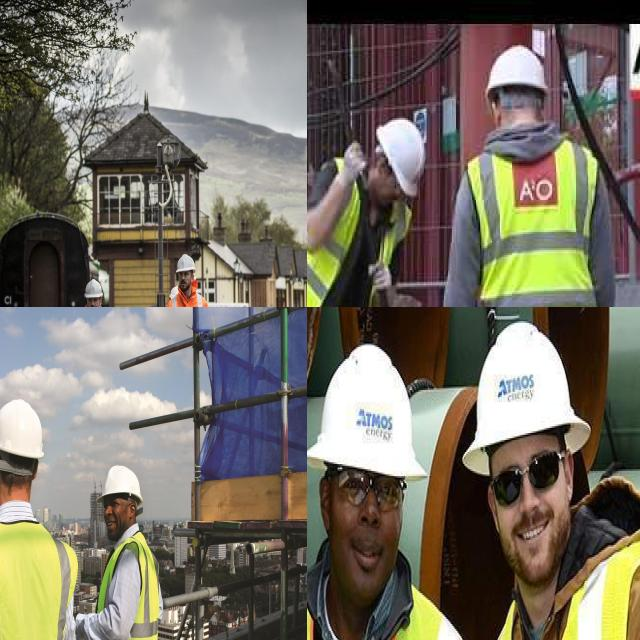No_Ear-Protection: (317, 474, 333, 534), (562, 445, 576, 498), (127, 499, 138, 521)
No_Glasses: (101, 496, 122, 513)
face_nomask: (316, 431, 409, 612), (495, 434, 571, 578), (178, 271, 191, 289), (86, 294, 98, 307)
glasses: (490, 447, 564, 510), (331, 459, 410, 516)
hand_glove: (334, 143, 366, 189), (364, 255, 396, 301)
head_helmet: (473, 320, 587, 469), (307, 341, 420, 490), (376, 118, 427, 195), (483, 46, 549, 100), (0, 397, 44, 461), (95, 465, 144, 505), (175, 254, 196, 274), (84, 278, 104, 298)
person: (475, 357, 640, 640), (438, 45, 616, 307), (307, 357, 470, 640), (307, 118, 420, 307), (0, 416, 77, 640), (83, 468, 168, 640), (161, 256, 217, 307)
vest: (468, 137, 600, 307), (0, 518, 74, 640), (90, 533, 164, 640), (307, 154, 357, 307)
